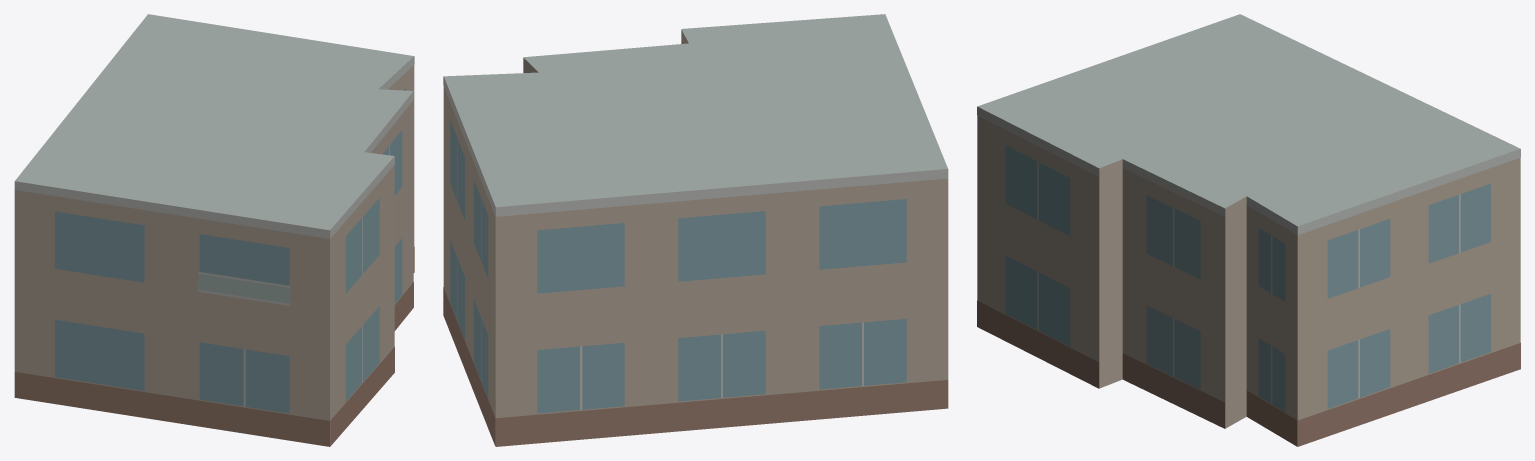
Rendered from survey-upis-33006871.glb.
The picture shows the model from 3 angles, left to right: view 1: azimuth 30°, elevation 25°; view 2: azimuth 150°, elevation 25°; view 3: azimuth 270°, elevation 25°; orthographic projection. The views are drawn at different scales.
Parts seen in each view (by area): view 1: survey-upis-33006871.tmp; view 2: survey-upis-33006871.tmp; view 3: survey-upis-33006871.tmp.
Part boxes in pixels (x1=…): survey-upis-33006871.tmp: x1=14, y1=14, x2=414, y2=446; survey-upis-33006871.tmp: x1=443, y1=14, x2=948, y2=446; survey-upis-33006871.tmp: x1=977, y1=14, x2=1520, y2=446.
Bounding box in the file's own units: 12.62 × 6.1 × 13.65.
